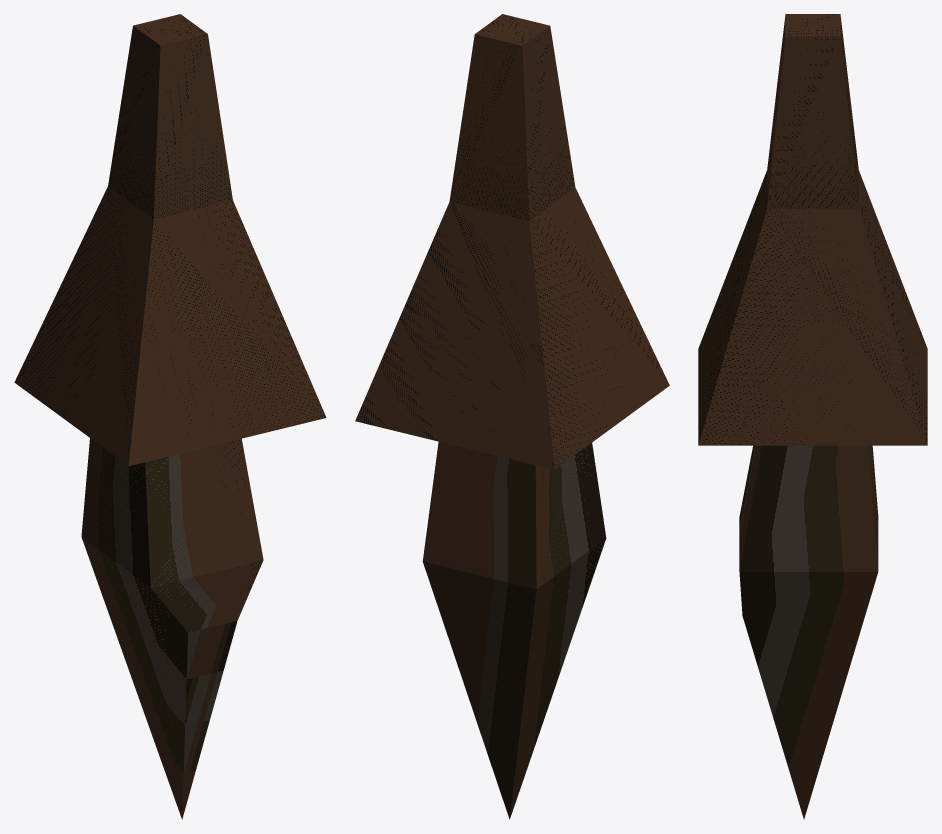
File: TORCH2.obj
3 renders of one model, left to right at view 1: azimuth 30°, elevation 25°; view 2: azimuth 150°, elevation 25°; view 3: azimuth 270°, elevation 25°, orthographic.
Parts seen in each view (by area): view 1: Cube; view 2: Cube; view 3: Cube.
Boxes of the visible parts, <box> form: Cube: <box>14,14,326,819</box>; Cube: <box>355,14,669,819</box>; Cube: <box>698,14,927,819</box>.
Size of the model in its own units: 1.02 by 3.86 by 1.02.
Materials: 1 (1 with a texture image).
